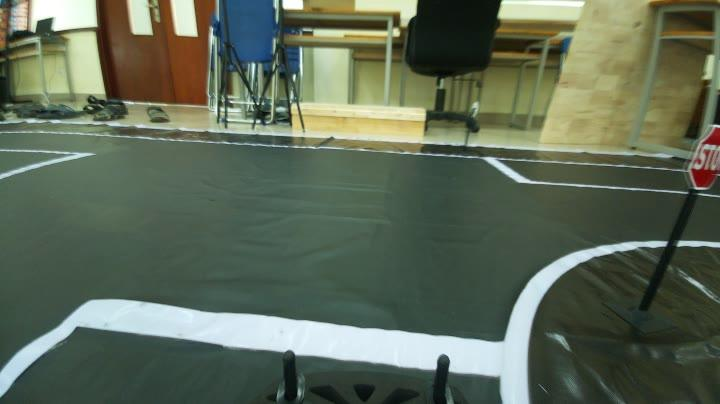stop: (681, 117, 720, 194)
